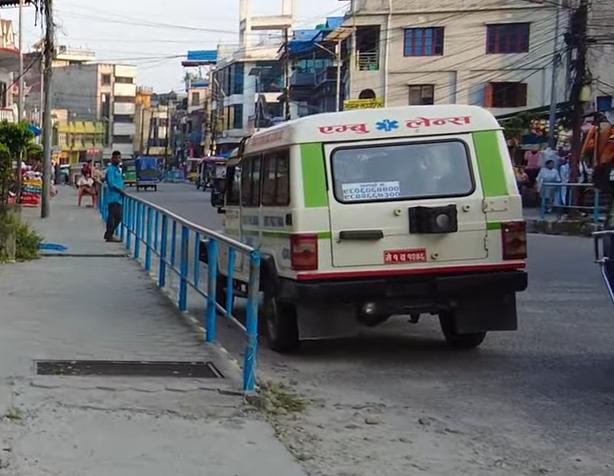ambulance: (201, 98, 536, 361)
e-rickshaw: (132, 152, 159, 194)
